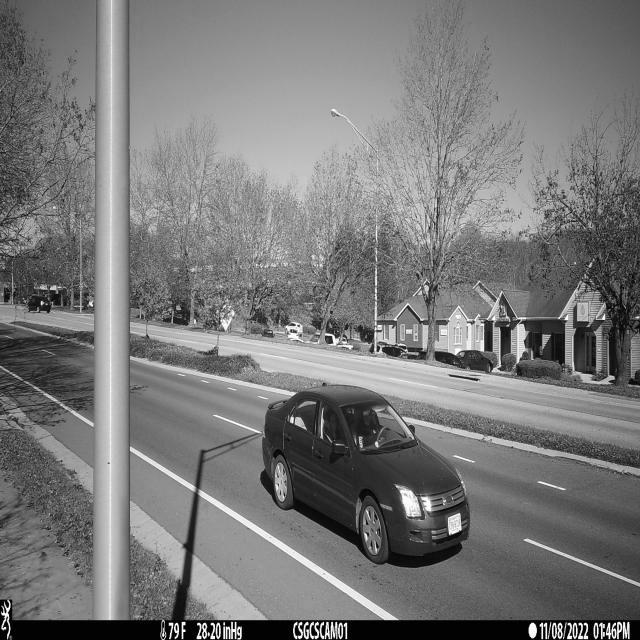Sedan: (260, 382, 474, 565)
